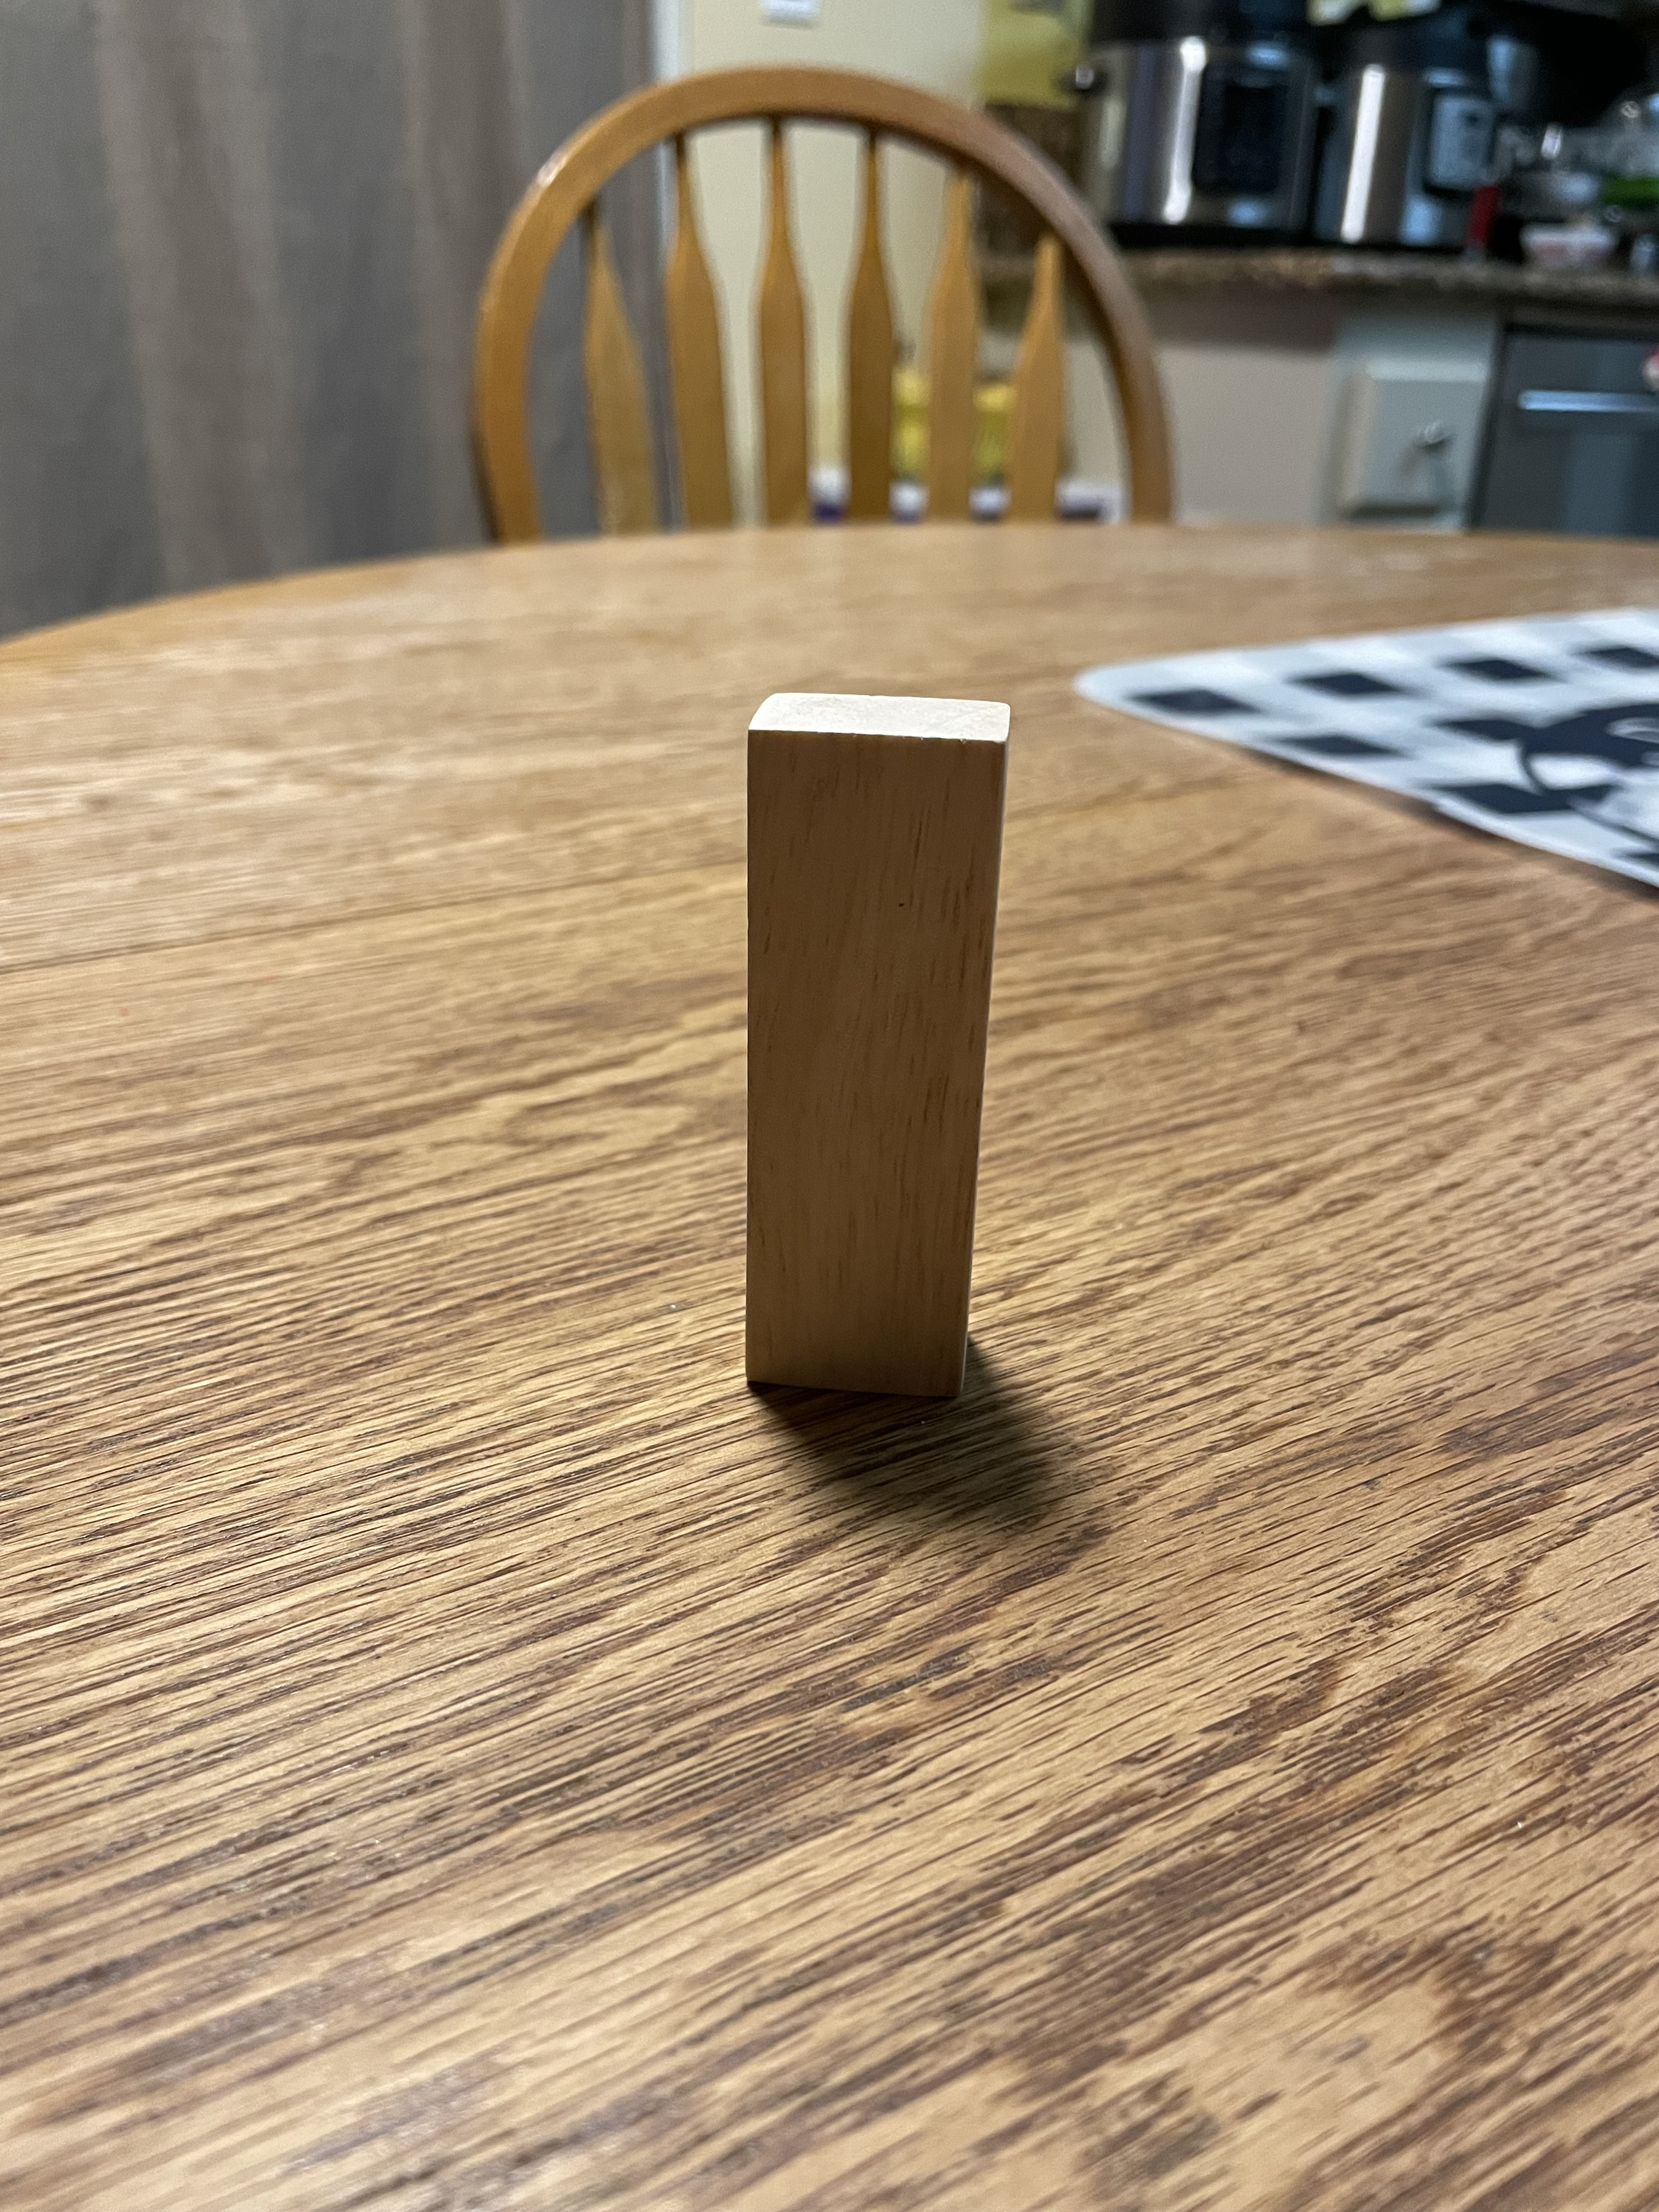jenga: (735, 693, 1016, 1416)
